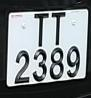2: (12, 49, 33, 85)
3: (30, 48, 50, 82)
8: (48, 46, 66, 80)
9: (64, 44, 83, 80)
T: (30, 12, 52, 48), (48, 9, 67, 49)
